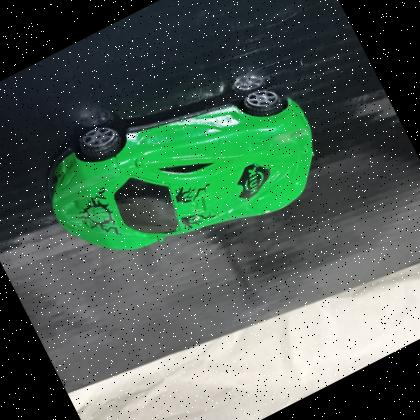Car: (19, 32, 348, 310)
